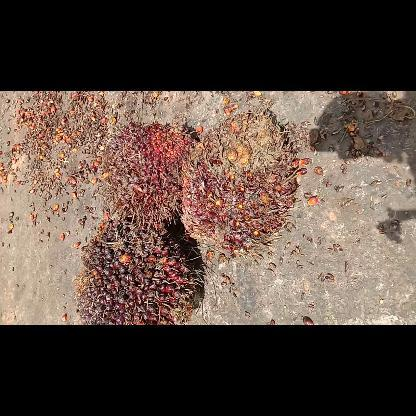Kurang masak: (180, 109, 300, 259)
TBS masak: (76, 220, 206, 324), (100, 120, 190, 230)
